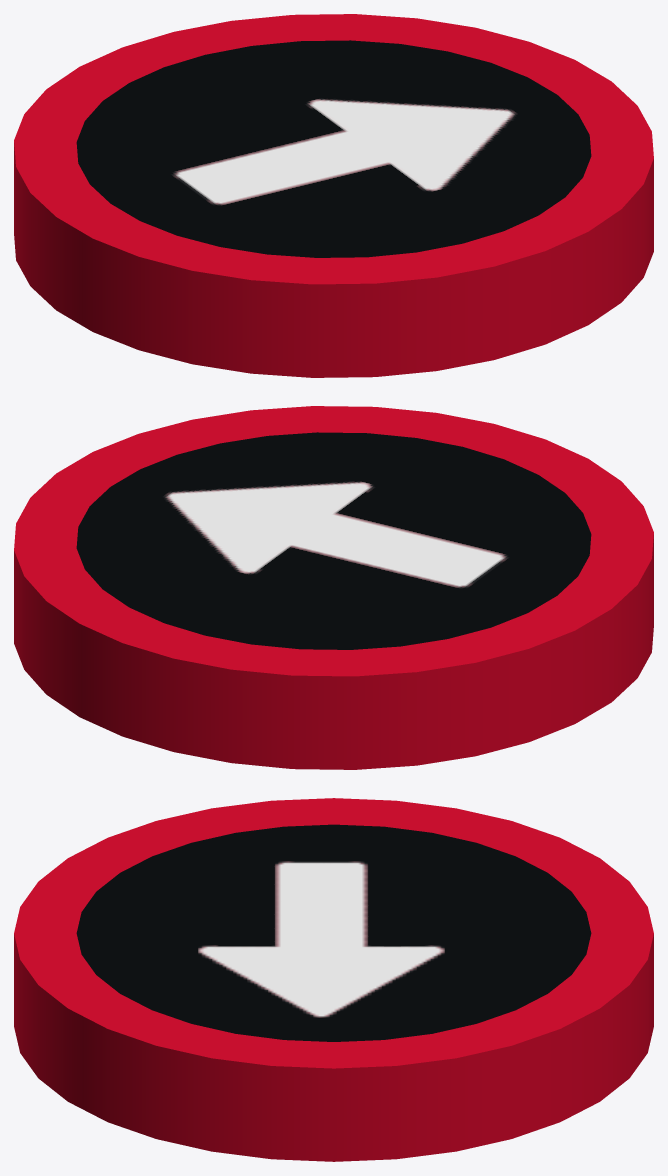
File: ArrowPlatformFinish.fbx
The picture shows the model from 3 angles, top to bottom: view 1: azimuth 30°, elevation 25°; view 2: azimuth 150°, elevation 25°; view 3: azimuth 270°, elevation 25°; orthographic projection.
Parts seen in each view (by area): view 1: Cylinder.005; view 2: Cylinder.005; view 3: Cylinder.005.
Boxes of the visible parts, x1,y1,x2,y2 form: Cylinder.005: (14, 14, 653, 377); Cylinder.005: (14, 406, 653, 769); Cylinder.005: (14, 798, 653, 1161).
Bounding box in the file's own units: 62.17 × 10 × 62.17.
